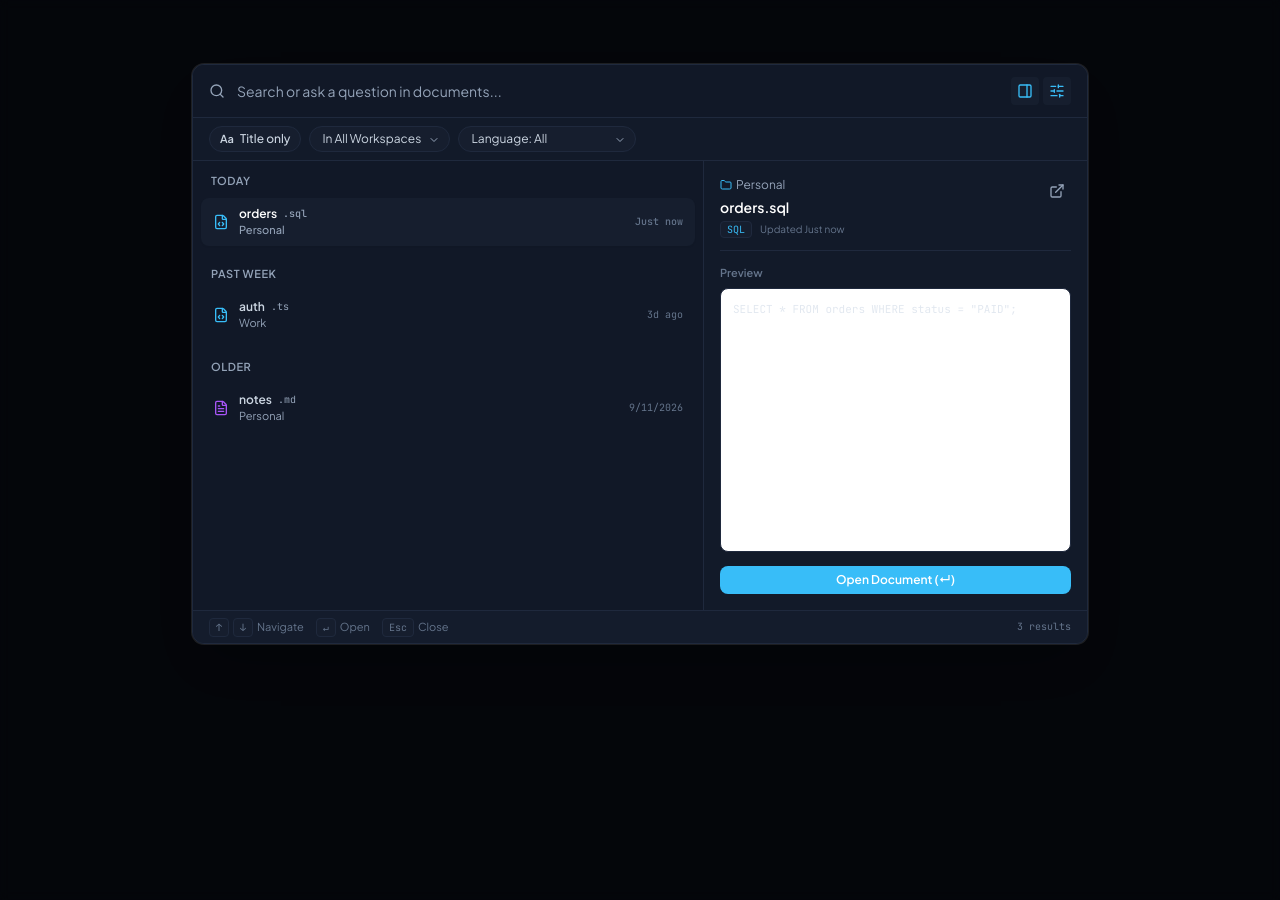
Test: Notion-Style SearchModal Component › defaults to searching in all workspaces even when activeWorkspaceId is provided
The width and height of the screenshot is (1280, 900).
Expected: the text "orders" is shown, x1=239 y1=206 x2=277 y2=222
Expected: the text "auth" is shown, x1=239 y1=298 x2=265 y2=314
# Selecting ws-2 filters the list to only ws-2 snippets
Select "In Work" in the 1st dropdown showing "In All Workspaces". click: (380, 139)
box: x1=309 y1=126 x2=450 y2=152
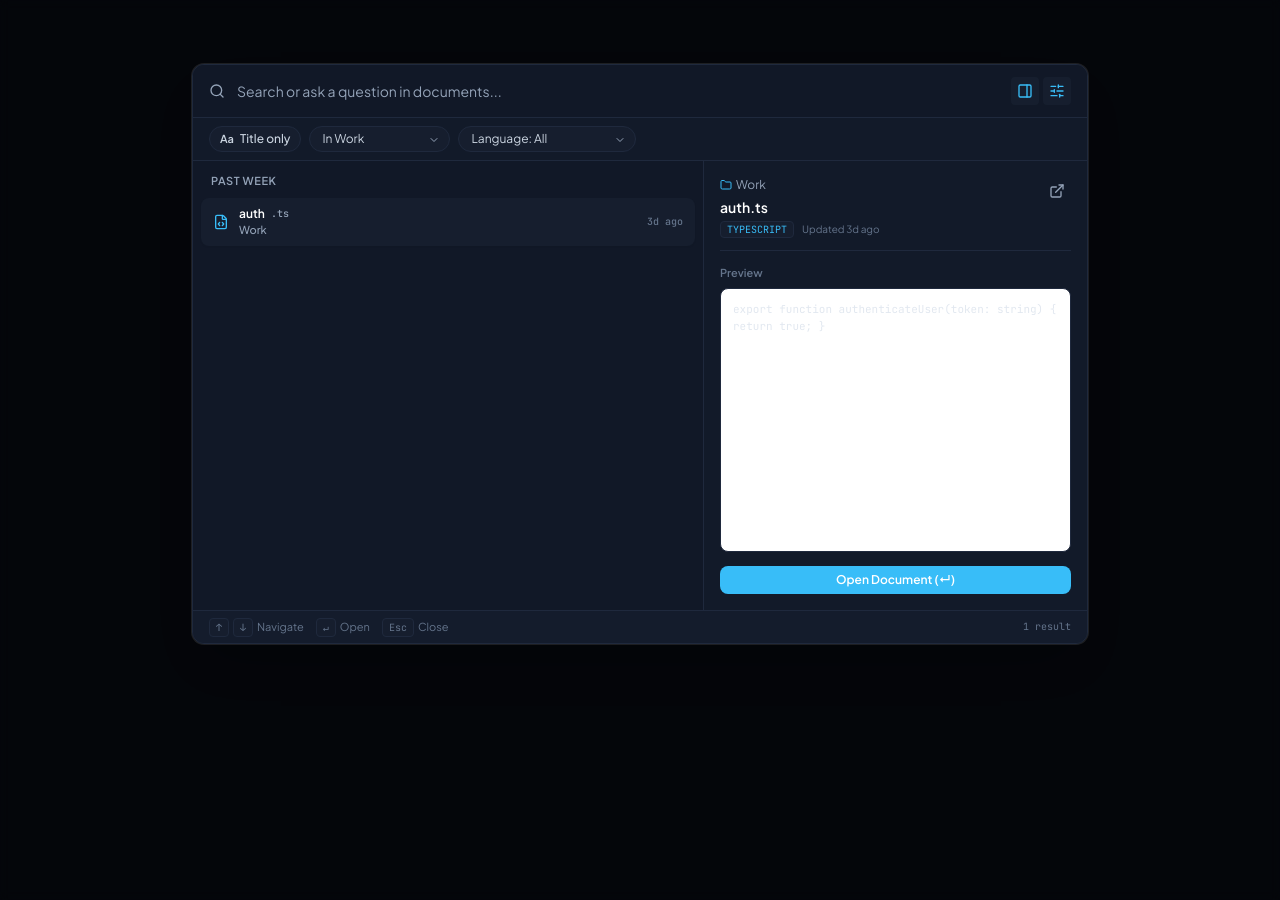
Expected: the text "auth" is shown, x1=239 y1=206 x2=265 y2=222
Expected: the text "orders" is gone
Expected: the text "notes" is gone
